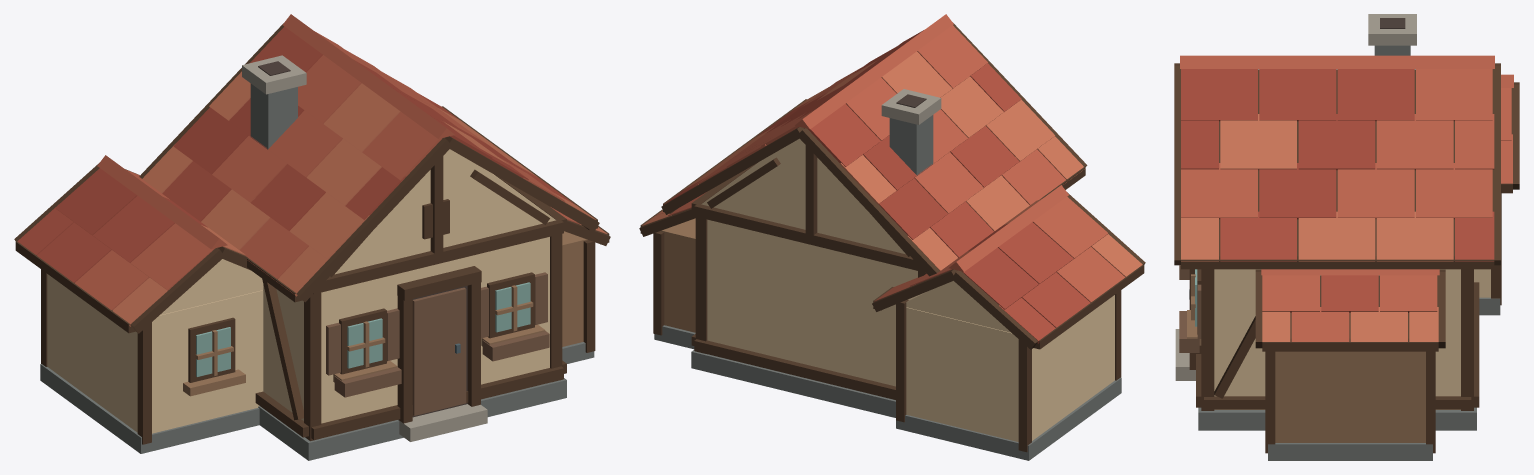
File: ENV_Cottage_A_LOD1.glb
The picture shows the model from 3 angles, left to right: view 1: azimuth 30°, elevation 25°; view 2: azimuth 150°, elevation 25°; view 3: azimuth 270°, elevation 25°; orthographic projection. The views are drawn at different scales.
Visible parts, largest first — view 1: ENV_Cottage_A_LOD1_roof_roofTiles, ENV_Cottage_A_LOD1_shell_woodDark, ENV_Cottage_A_LOD1_shell_plaster, ENV_Cottage_A_LOD1_wing_plaster, ENV_Cottage_A_LOD1_wing_roofTiles, ENV_Cottage_A_LOD1_shell_wood, ENV_Cottage_A_LOD1_wing_woodDark, ENV_Cottage_A_LOD1_roof_woodDark, ENV_Cottage_A_LOD1_foundation_stoneDark, ENV_Cottage_A_LOD1_wing_stoneDark, ENV_Cottage_A_LOD1_shed_woodLight, ENV_Cottage_A_LOD1_occupied_wood (+8 smaller); view 2: ENV_Cottage_A_LOD1_roof_roofTiles, ENV_Cottage_A_LOD1_shell_plaster, ENV_Cottage_A_LOD1_wing_plaster, ENV_Cottage_A_LOD1_wing_roofTiles, ENV_Cottage_A_LOD1_shell_woodDark, ENV_Cottage_A_LOD1_wing_woodDark, ENV_Cottage_A_LOD1_roof_woodDark, ENV_Cottage_A_LOD1_foundation_stoneDark, ENV_Cottage_A_LOD1_wing_stoneDark, ENV_Cottage_A_LOD1_shed_woodLight, ENV_Cottage_A_LOD1_occupied_stoneDark, ENV_Cottage_A_LOD1_shed_woodDark (+2 smaller); view 3: ENV_Cottage_A_LOD1_roof_roofTiles, ENV_Cottage_A_LOD1_shed_woodLight, ENV_Cottage_A_LOD1_shed_roofTiles, ENV_Cottage_A_LOD1_shell_plaster, ENV_Cottage_A_LOD1_roof_woodDark, ENV_Cottage_A_LOD1_shell_woodDark, ENV_Cottage_A_LOD1_shed_woodDark, ENV_Cottage_A_LOD1_shed_stoneDark, ENV_Cottage_A_LOD1_foundation_stoneDark, ENV_Cottage_A_LOD1_wing_woodDark, ENV_Cottage_A_LOD1_occupied_stone, ENV_Cottage_A_LOD1_wing_roofTiles (+6 smaller).
Part boxes in pixels (x1,y1,x2,y2): ENV_Cottage_A_LOD1_roof_roofTiles: [142, 14, 595, 296]; ENV_Cottage_A_LOD1_shell_woodDark: [255, 156, 566, 441]; ENV_Cottage_A_LOD1_shell_plaster: [263, 149, 555, 423]; ENV_Cottage_A_LOD1_wing_plaster: [47, 259, 263, 433]; ENV_Cottage_A_LOD1_wing_roofTiles: [17, 155, 245, 326]; ENV_Cottage_A_LOD1_shell_wood: [326, 272, 547, 415]; ENV_Cottage_A_LOD1_wing_woodDark: [14, 163, 250, 444]; ENV_Cottage_A_LOD1_roof_woodDark: [139, 23, 599, 302]; ENV_Cottage_A_LOD1_foundation_stoneDark: [258, 378, 566, 460]; ENV_Cottage_A_LOD1_wing_stoneDark: [40, 364, 259, 453]; ENV_Cottage_A_LOD1_shed_woodLight: [562, 231, 587, 346]; ENV_Cottage_A_LOD1_occupied_wood: [334, 331, 549, 397]; ENV_Cottage_A_LOD1_roof_roofTiles: [663, 14, 1085, 270]; ENV_Cottage_A_LOD1_shell_plaster: [701, 138, 917, 386]; ENV_Cottage_A_LOD1_wing_plaster: [906, 281, 1114, 441]; ENV_Cottage_A_LOD1_wing_roofTiles: [874, 185, 1142, 343]; ENV_Cottage_A_LOD1_shell_woodDark: [691, 145, 926, 399]; ENV_Cottage_A_LOD1_wing_woodDark: [872, 192, 1145, 452]; ENV_Cottage_A_LOD1_roof_woodDark: [661, 23, 1087, 276]; ENV_Cottage_A_LOD1_foundation_stoneDark: [691, 350, 895, 417]; ENV_Cottage_A_LOD1_wing_stoneDark: [896, 377, 1121, 460]; ENV_Cottage_A_LOD1_shed_woodLight: [660, 218, 695, 332]; ENV_Cottage_A_LOD1_occupied_stoneDark: [889, 115, 933, 175]; ENV_Cottage_A_LOD1_shed_woodDark: [639, 208, 695, 335]; ENV_Cottage_A_LOD1_roof_roofTiles: [1180, 55, 1494, 261]; ENV_Cottage_A_LOD1_shed_woodLight: [1275, 351, 1425, 442]; ENV_Cottage_A_LOD1_shed_roofTiles: [1261, 269, 1439, 341]; ENV_Cottage_A_LOD1_shell_plaster: [1214, 269, 1460, 409]; ENV_Cottage_A_LOD1_roof_woodDark: [1174, 63, 1500, 269]; ENV_Cottage_A_LOD1_shell_woodDark: [1189, 269, 1479, 410]; ENV_Cottage_A_LOD1_shed_woodDark: [1255, 269, 1445, 453]; ENV_Cottage_A_LOD1_shed_stoneDark: [1268, 443, 1432, 460]; ENV_Cottage_A_LOD1_foundation_stoneDark: [1198, 407, 1476, 430]; ENV_Cottage_A_LOD1_wing_woodDark: [1491, 82, 1519, 305]; ENV_Cottage_A_LOD1_occupied_stone: [1368, 14, 1416, 45]; ENV_Cottage_A_LOD1_wing_roofTiles: [1501, 74, 1513, 183].
Bounding box in the file's own units: 7.18 × 4.49 × 4.52.
